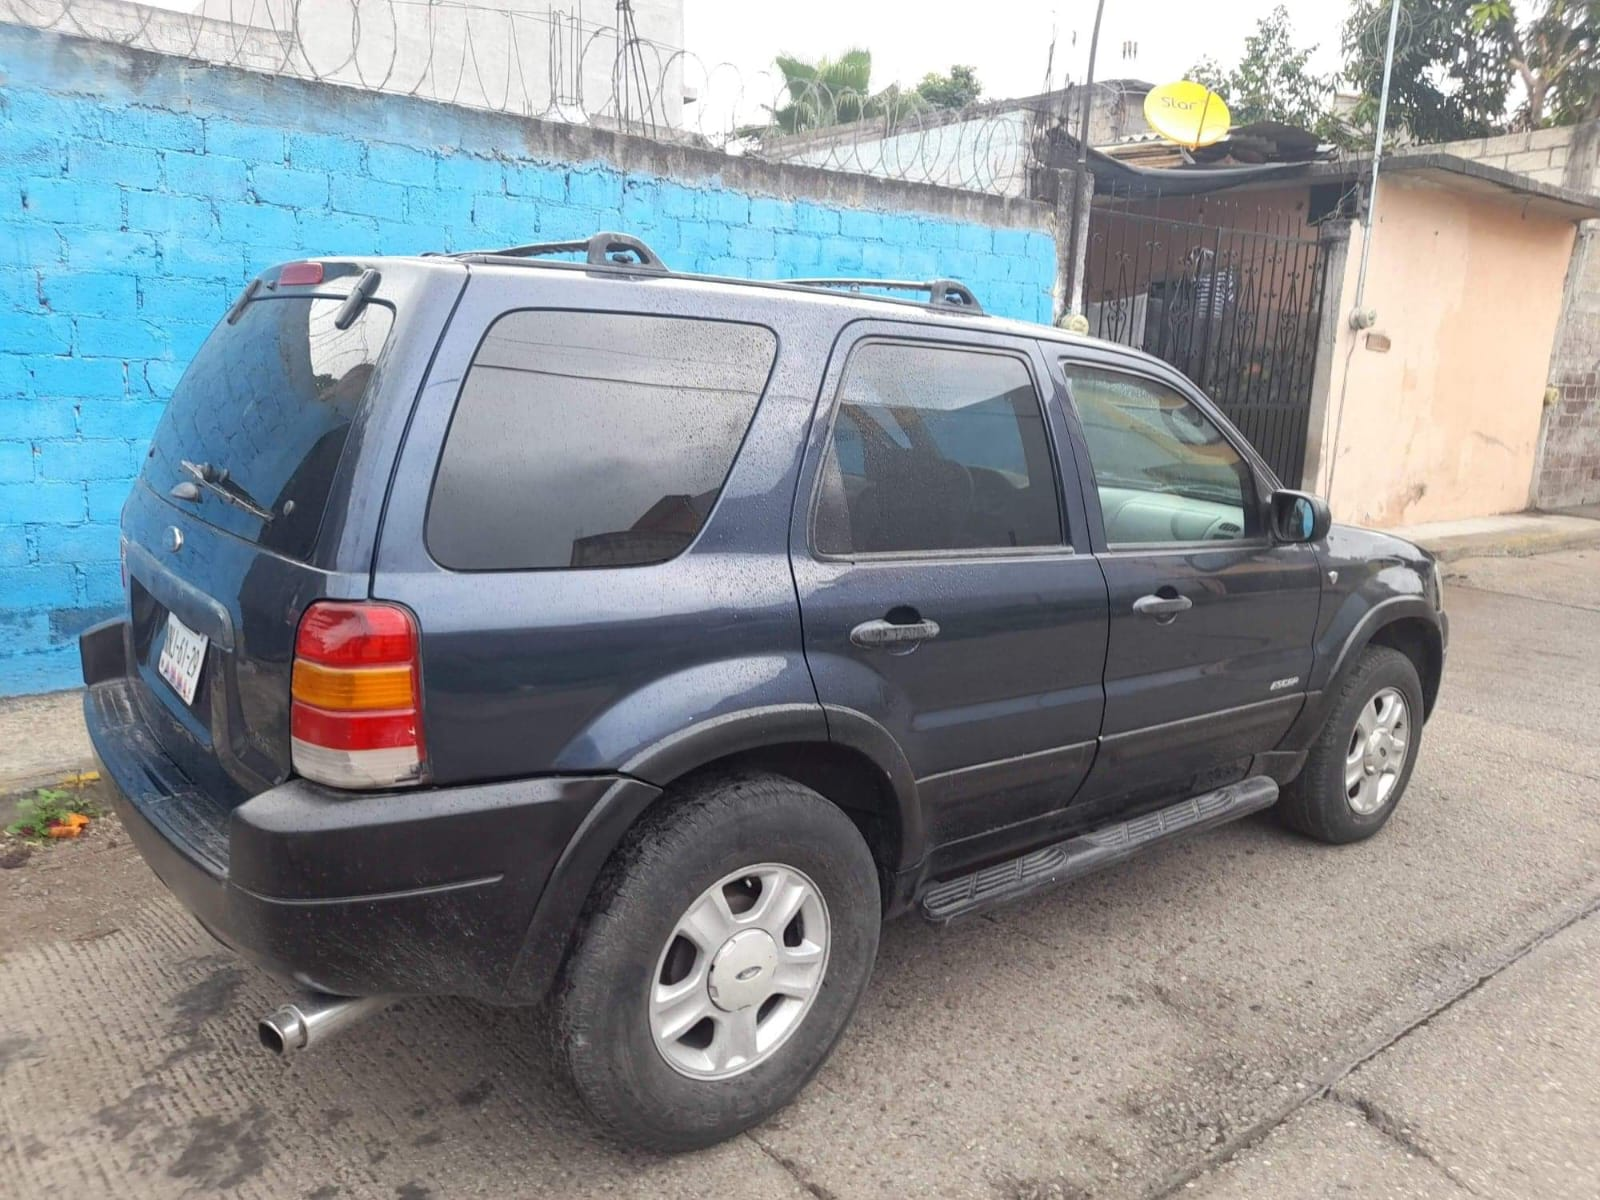Auto: (76, 239, 1458, 1155)
